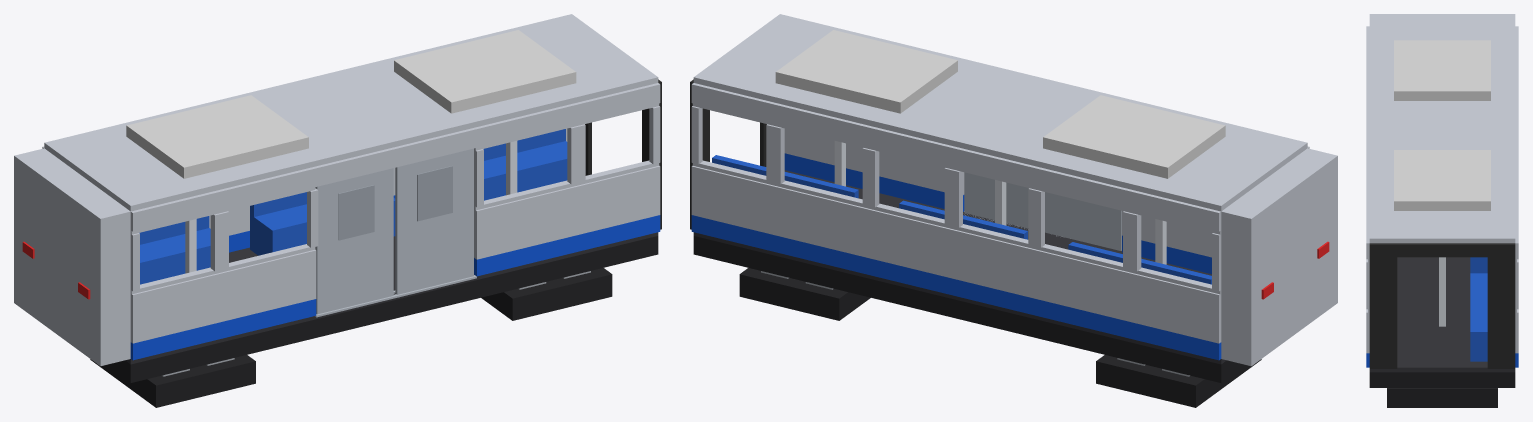
The model's file is metro_wagon_rear_closed.obj.
3 views of the same model, side by side, from view 1: azimuth 30°, elevation 25°; view 2: azimuth 150°, elevation 25°; view 3: azimuth 270°, elevation 25° (orthographic). The views are drawn at different scales.
Size of the model in its own units: 3.16 by 1.26 by 0.88.
